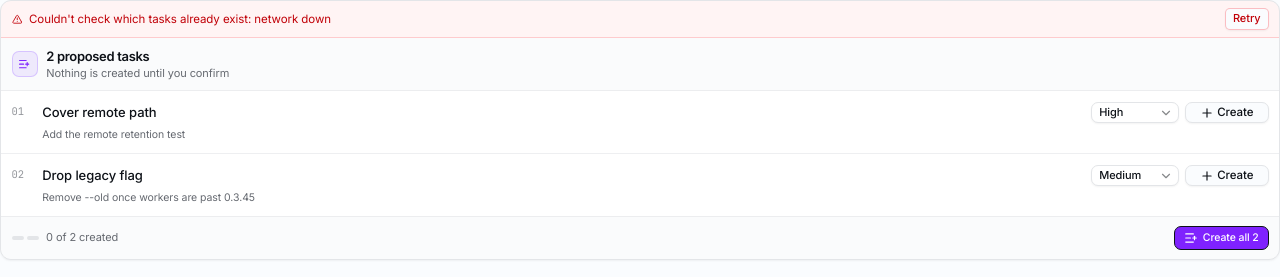
Scenario: TaskProposalUI › shows a failed first load with a retry, and becomes creatable once it succeeds
Click the button "Retry".
click(1247, 19)  # box x1=1225 y1=8 x2=1268 y2=30
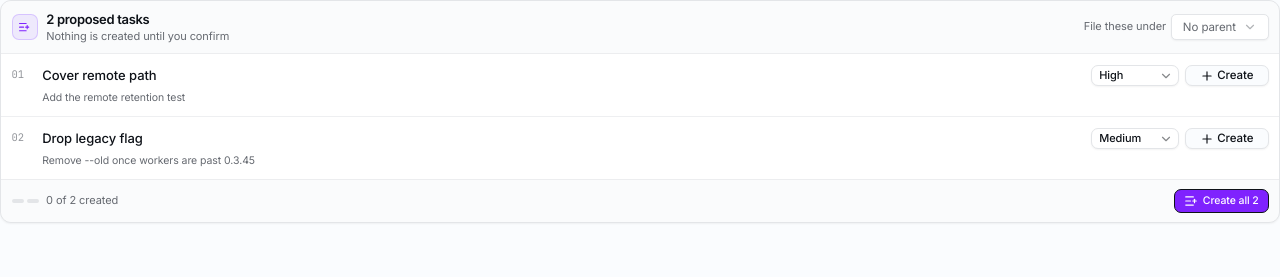
Now the text "network down" is gone
